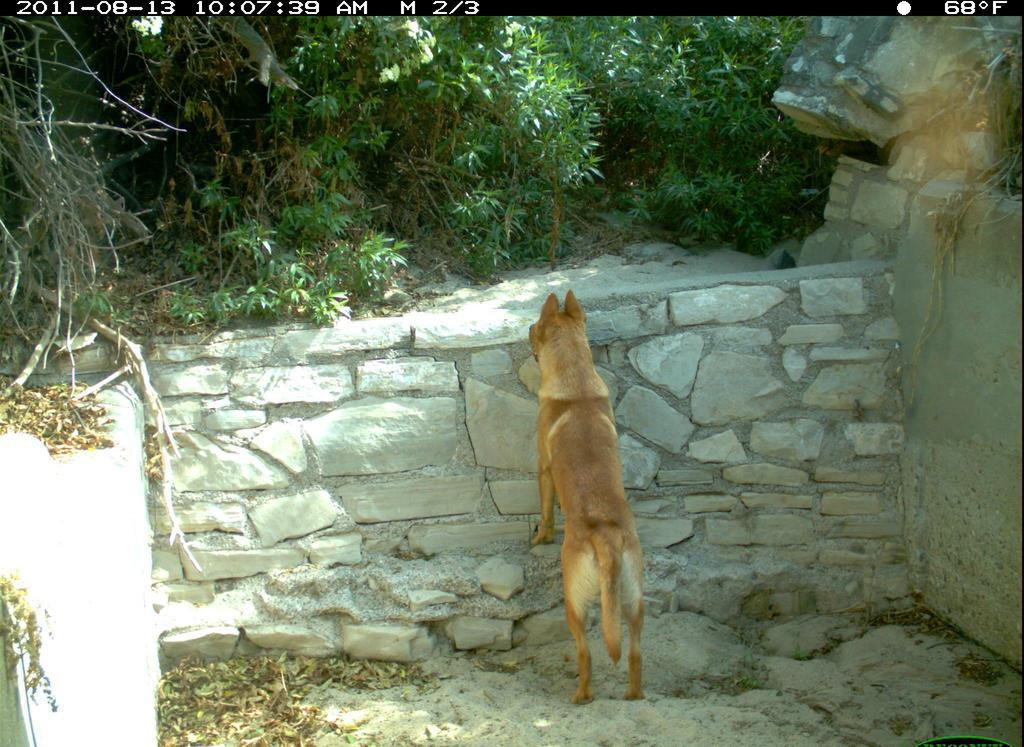dog: (523, 276, 661, 711)
